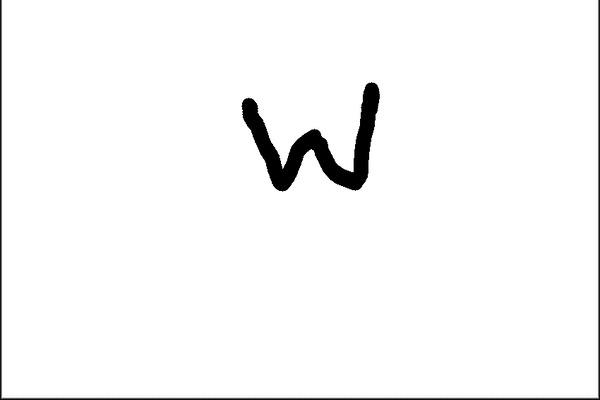w: (228, 59, 389, 210)
